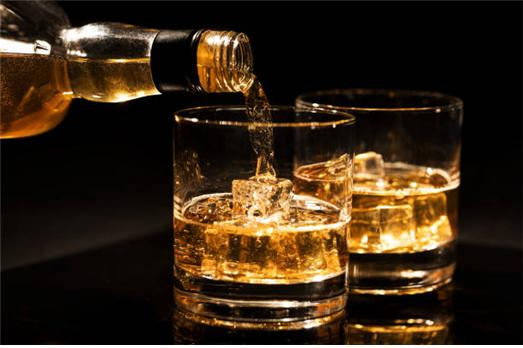alcohol: (171, 105, 354, 329), (0, 2, 253, 143), (293, 92, 465, 299)
